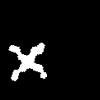single_crochet: (9, 43, 46, 80)
